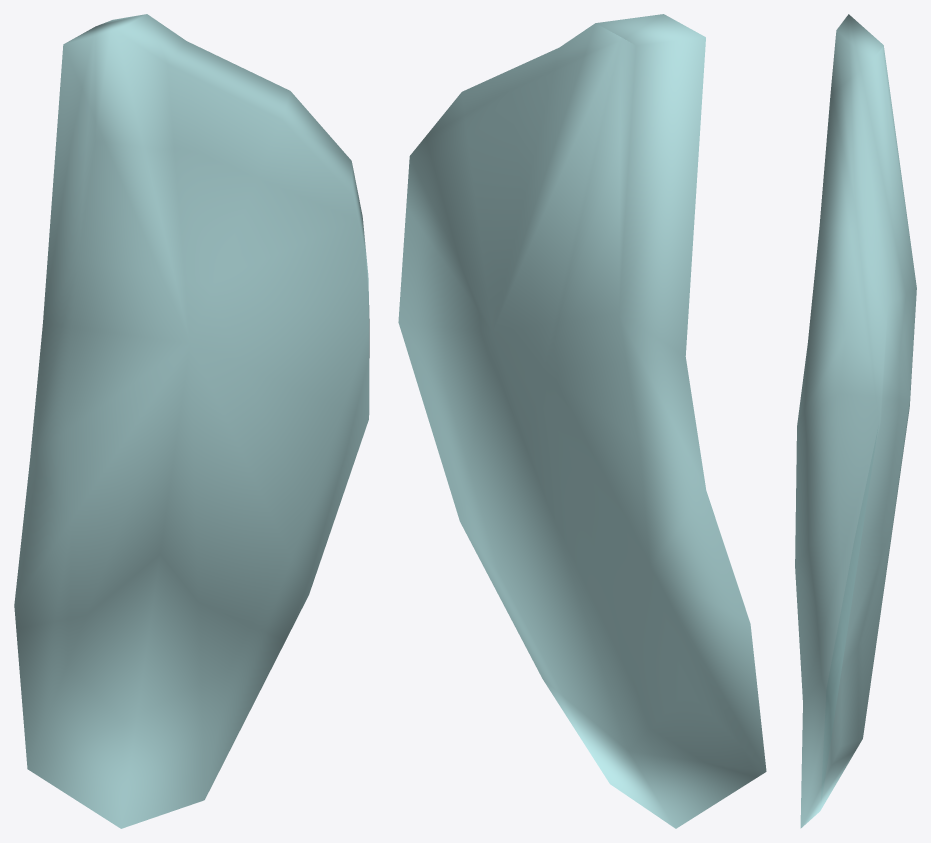
File: Shard_4_R.fbx
The picture shows the model from 3 angles, left to right: view 1: azimuth 30°, elevation 25°; view 2: azimuth 150°, elevation 25°; view 3: azimuth 270°, elevation 25°; orthographic projection. The views are drawn at different scales.
Parts seen in each view (by area): view 1: Shard_Rounded_4; view 2: Shard_Rounded_4; view 3: Shard_Rounded_4.
Boxes of the visible parts, x1,y1,x2,y2 form: Shard_Rounded_4: (14,14,369,828); Shard_Rounded_4: (398,14,766,828); Shard_Rounded_4: (795,14,916,828).
Size of the model in its own units: 510 by 1105 by 156.
